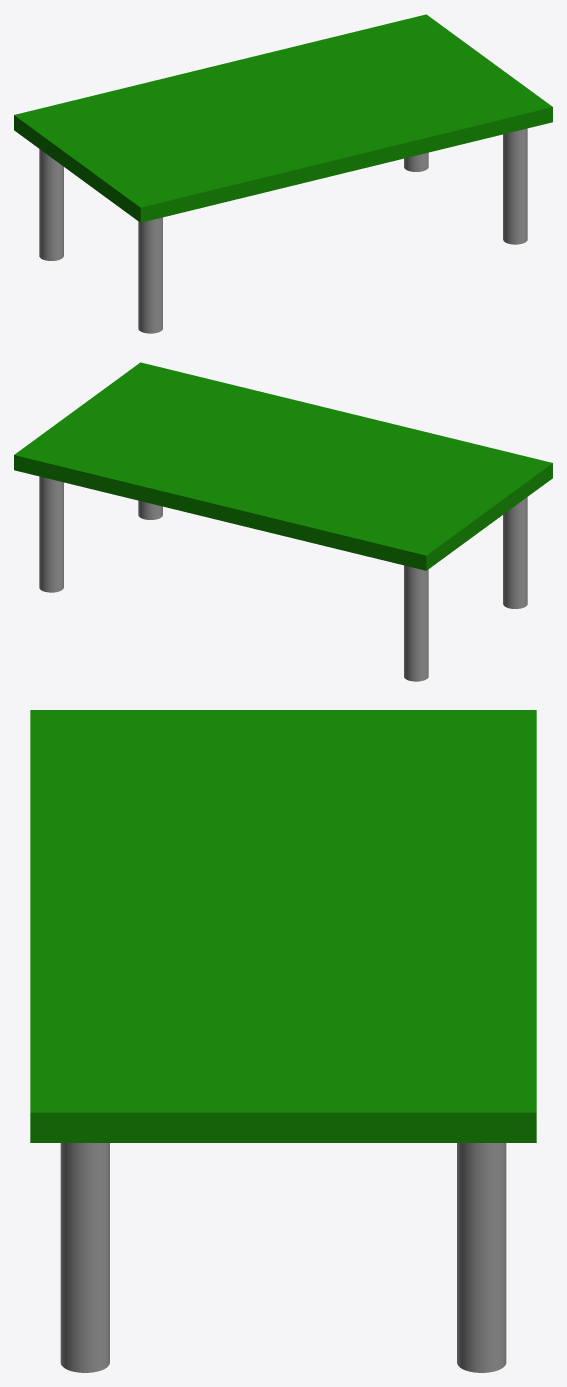
Rendered from desk.glb.
The picture shows the model from 3 angles, top to bottom: view 1: azimuth 30°, elevation 25°; view 2: azimuth 150°, elevation 25°; view 3: azimuth 270°, elevation 25°; orthographic projection. The views are drawn at different scales.
Parts seen in each view (by area): view 1: Cube, Cylinder.002, Cylinder.001, Cylinder.003, Cylinder; view 2: Cube, Cylinder.003, Cylinder, Cylinder.002, Cylinder.001; view 3: Cube, Cylinder, Cylinder.001.
Boxes of the visible parts, x1,y1,x2,y2 form: Cube: (14,14,552,222); Cylinder.002: (138,217,162,333); Cylinder.001: (503,128,527,244); Cylinder.003: (39,149,63,260); Cylinder: (404,152,428,171); Cube: (14,362,552,570); Cylinder.003: (404,565,428,681); Cylinder: (39,476,63,592); Cylinder.002: (503,497,527,608); Cylinder.001: (138,500,162,519); Cube: (30,710,536,1142); Cylinder: (457,1143,506,1372); Cylinder.001: (60,1143,109,1372).
Bounding box in the file's own units: 6.92 × 2.19 × 3.68.
